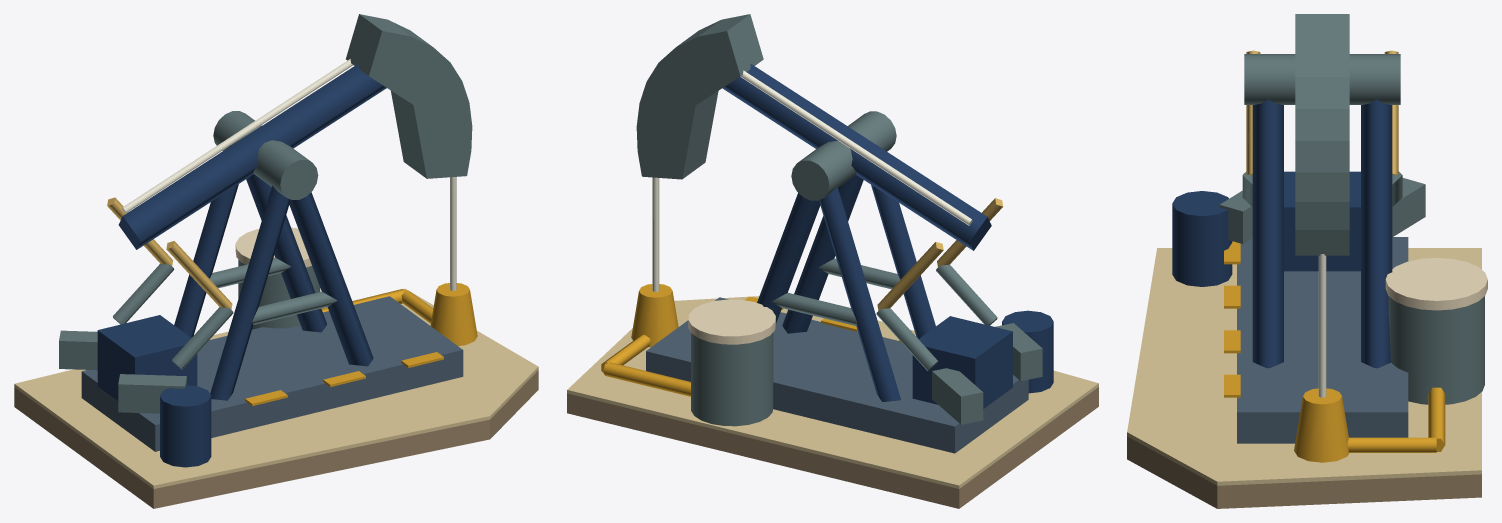
The model's file is oil-well-lv1.glb.
3 views of the same model, side by side, from view 1: azimuth 30°, elevation 25°; view 2: azimuth 150°, elevation 25°; view 3: azimuth 270°, elevation 25° (orthographic). The views are drawn at different scales.
Parts seen in each view (by area): view 1: foundation_sand, pump_foundation_slate, a_frame_legs_naval, curved_horsehead_iron, foundation_stoneDark, walking_beam_naval, gearbox_naval, motor_naval, counterweight_iron, saddle_bearing_iron, crank_arm_iron, wellhead_ochre (+8 smaller); view 2: pump_foundation_slate, foundation_sand, a_frame_legs_naval, curved_horsehead_iron, foundation_stoneDark, walking_beam_naval, storage_tank_iron, gearbox_naval, saddle_bearing_iron, counterweight_iron, tank_lid_cream, crank_arm_iron (+7 smaller); view 3: foundation_sand, pump_foundation_slate, a_frame_legs_naval, curved_horsehead_iron, foundation_stoneDark, storage_tank_iron, saddle_bearing_iron, motor_naval, tank_lid_cream, wellhead_ochre, gearbox_naval, counterweight_iron (+5 smaller).
Boxes of the visible parts, x1,y1,x2,y2 form: foundation_sand: [14, 288, 538, 488]; pump_foundation_slate: [81, 296, 463, 451]; a_frame_legs_naval: [174, 174, 373, 400]; curved_horsehead_iron: [346, 14, 472, 178]; foundation_stoneDark: [14, 370, 538, 508]; walking_beam_naval: [118, 63, 386, 249]; gearbox_naval: [97, 315, 197, 413]; motor_naval: [160, 385, 211, 467]; counterweight_iron: [59, 330, 186, 413]; saddle_bearing_iron: [213, 111, 318, 199]; crank_arm_iron: [113, 263, 233, 369]; wellhead_ochre: [430, 283, 477, 345]; pump_foundation_slate: [646, 297, 1028, 453]; foundation_sand: [567, 296, 1098, 488]; a_frame_legs_naval: [757, 175, 935, 401]; curved_horsehead_iron: [636, 14, 763, 179]; foundation_stoneDark: [567, 387, 1098, 508]; walking_beam_naval: [722, 64, 991, 250]; storage_tank_iron: [691, 332, 773, 426]; gearbox_naval: [912, 316, 1012, 408]; saddle_bearing_iron: [791, 111, 896, 200]; counterweight_iron: [932, 323, 1042, 424]; tank_lid_cream: [688, 299, 775, 344]; crank_arm_iron: [876, 264, 997, 370]; foundation_sand: [1127, 248, 1481, 485]; pump_foundation_slate: [1237, 237, 1408, 443]; a_frame_legs_naval: [1252, 99, 1392, 368]; curved_horsehead_iron: [1295, 14, 1349, 255]; foundation_stoneDark: [1127, 436, 1481, 508]; storage_tank_iron: [1388, 296, 1484, 404]; saddle_bearing_iron: [1244, 54, 1400, 104]; motor_naval: [1172, 191, 1232, 286]; tank_lid_cream: [1385, 257, 1487, 310]; wellhead_ochre: [1294, 388, 1349, 462]; gearbox_naval: [1284, 171, 1360, 271]; counterweight_iron: [1219, 178, 1425, 243].
Bounding box in the file's own units: 1 × 0.8478 × 0.6522.
